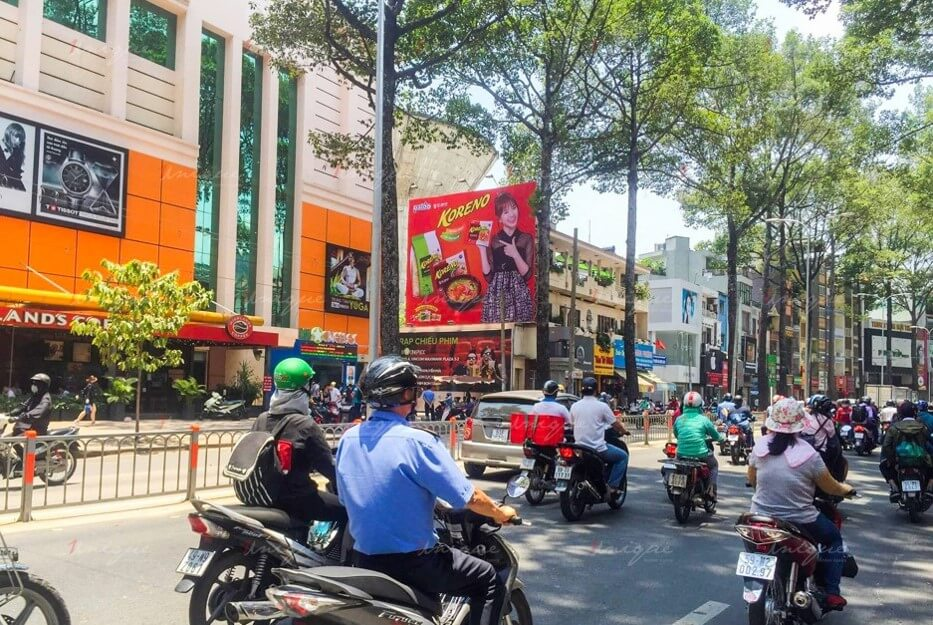bien_so: (171, 544, 220, 580), (733, 550, 779, 582), (666, 472, 691, 490), (553, 465, 575, 482), (902, 479, 922, 494), (518, 456, 537, 471)
